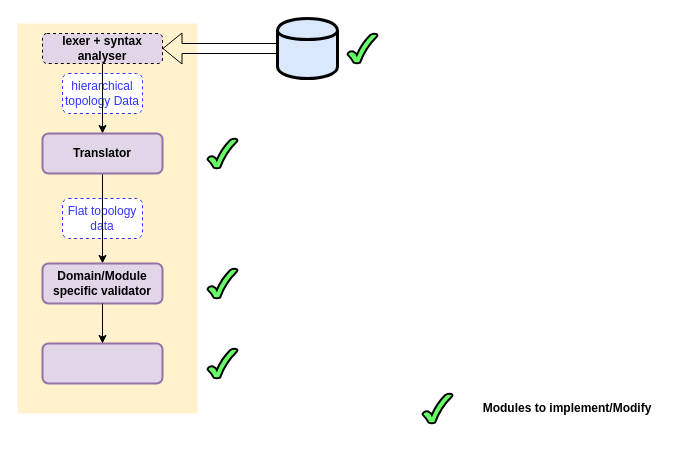
The diagram is 679 pixels wide and 469 high, and some of its shapes have lost their labels. The shapes that lost their labels are listed below. From the top down, each one's box as (x1, y1, x2, y2) in pixels, then its label:
(276, 16, 338, 80): JSON SCHEMA
(41, 342, 163, 384): LOAD CONFIG
